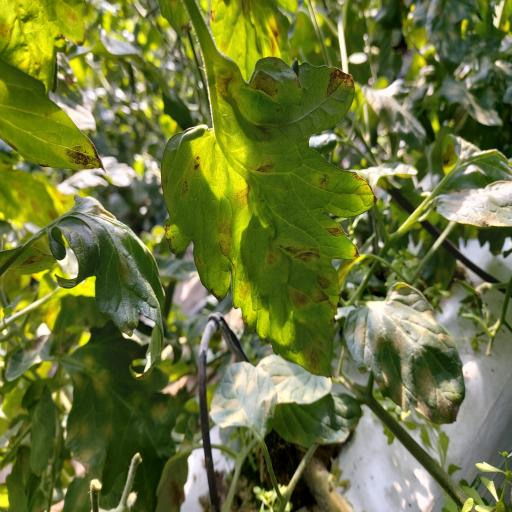disease_tomato: (158, 54, 374, 376), (344, 282, 467, 426), (208, 361, 278, 439)
